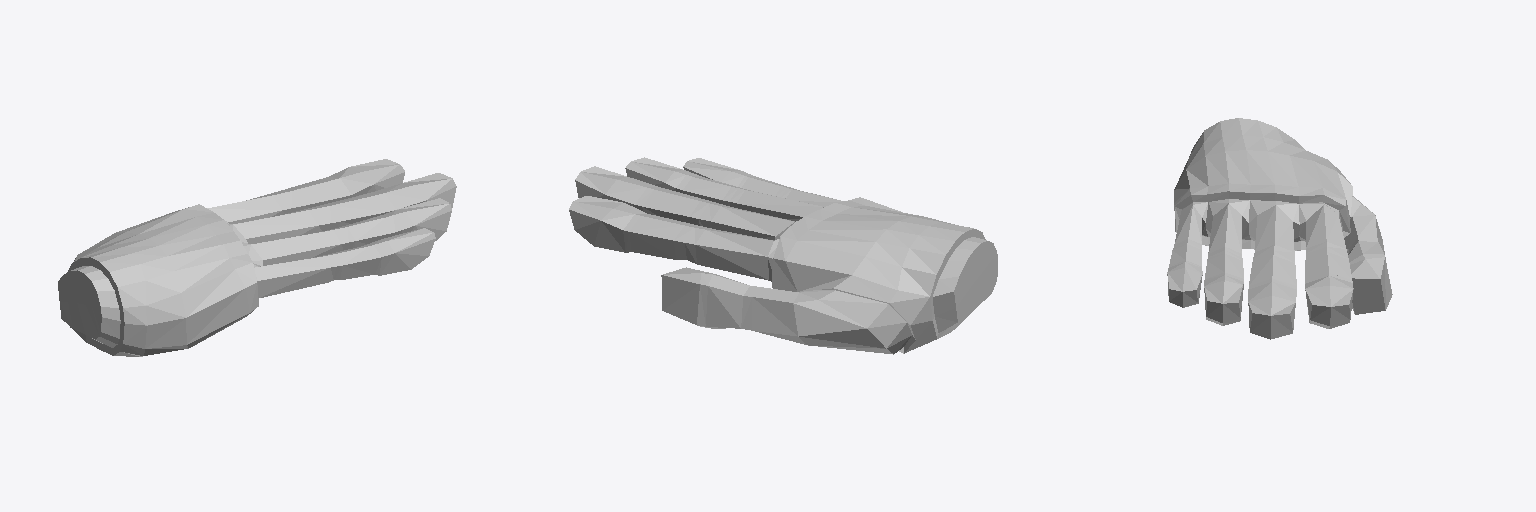
The model's file is rHand.obj.
The picture shows the model from 3 angles: view 1: azimuth 30°, elevation 25°; view 2: azimuth 150°, elevation 25°; view 3: azimuth 270°, elevation 25°; orthographic projection.
Visible parts, largest first — view 1: HandRight_Untitled.001; view 2: HandRight_Untitled.001; view 3: HandRight_Untitled.001.
Boxes of the visible parts, x1,y1,x2,y2 form: HandRight_Untitled.001: [58, 159, 456, 356]; HandRight_Untitled.001: [569, 157, 997, 354]; HandRight_Untitled.001: [1167, 118, 1392, 339].
Bounding box in the file's own units: 0.1948 × 0.0502 × 0.0989.